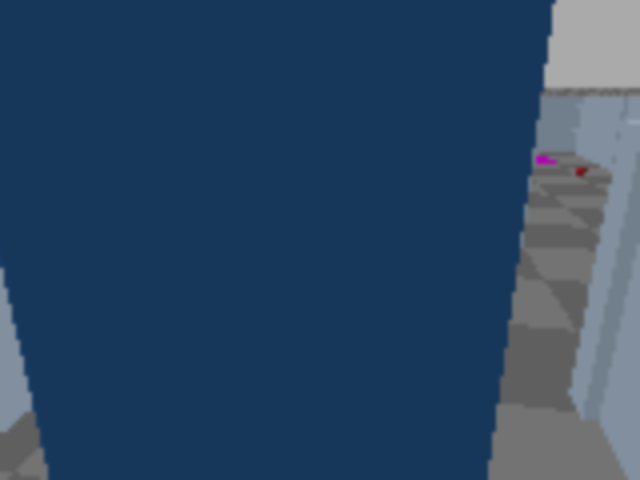person: (123, 0, 207, 156)
